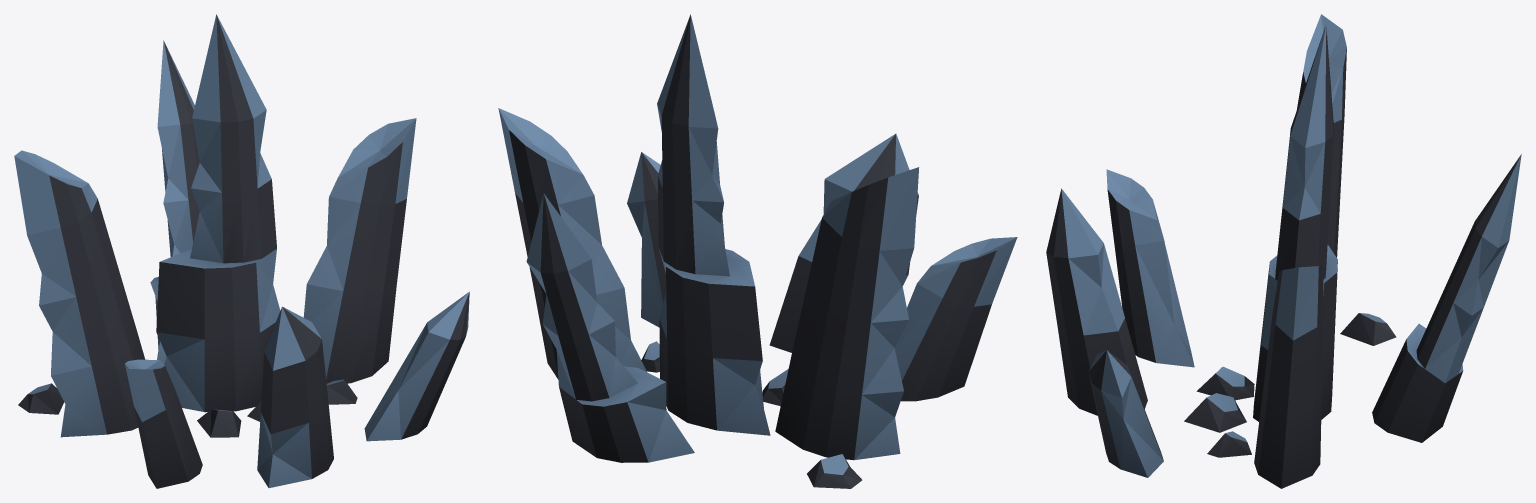
The model's file is obsidian.glb.
3 views of the same model, side by side, from view 1: azimuth 30°, elevation 25°; view 2: azimuth 150°, elevation 25°; view 3: azimuth 270°, elevation 25° (orthographic). The views are drawn at different scales.
Parts seen in each view (by area): view 1: obsidian.001; view 2: obsidian.001; view 3: obsidian.001.
Boxes of the visible parts, left/top/right/bottom form: obsidian.001: left=14, top=14, right=469, bottom=488; obsidian.001: left=498, top=14, right=1017, bottom=488; obsidian.001: left=1046, top=14, right=1521, bottom=488.
Size of the model in its own units: 1.6 by 1.44 by 1.6.
